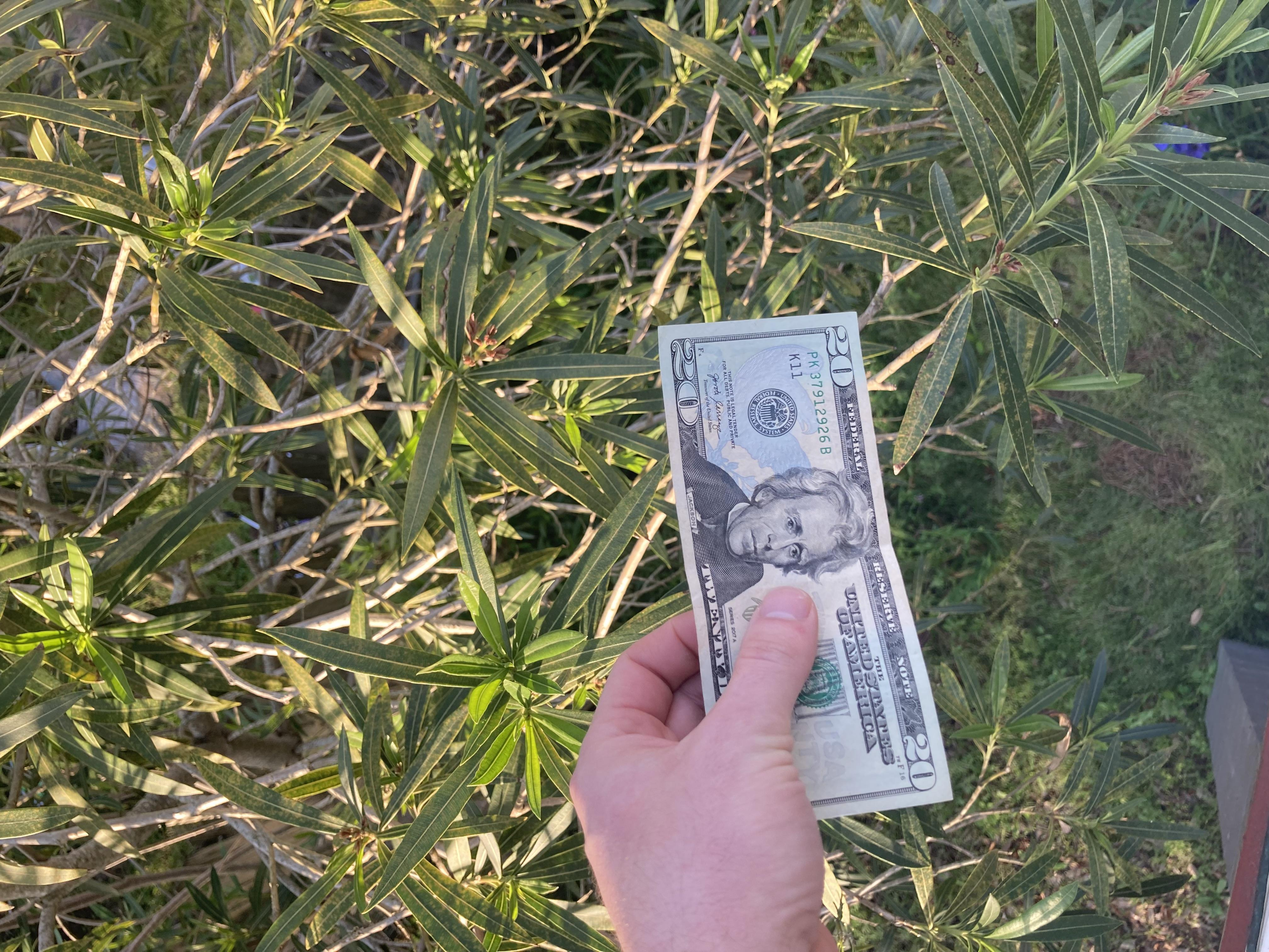twenty-front: (162, 493, 857, 717)
